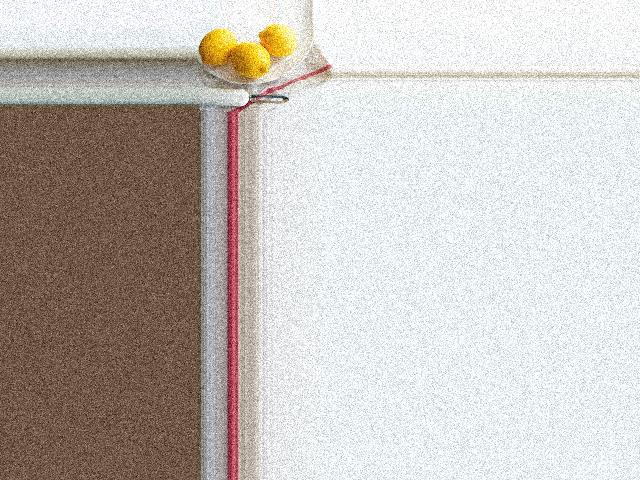lemon: (195, 28, 237, 62)
